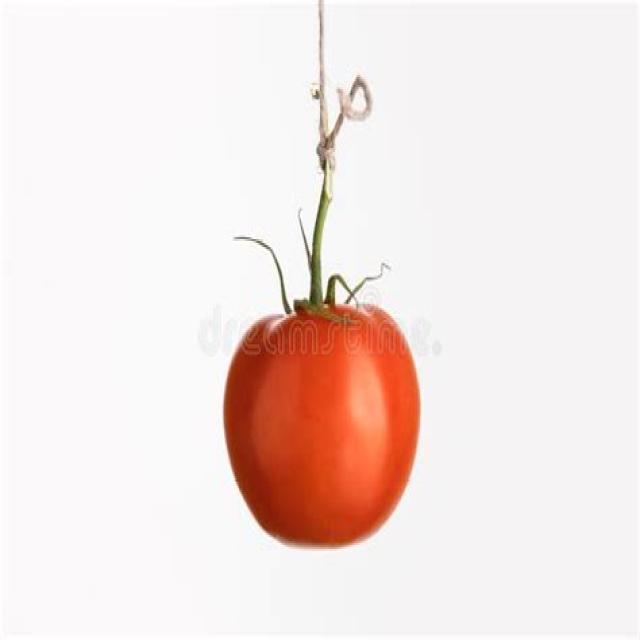Tomato: (223, 301, 423, 553)
